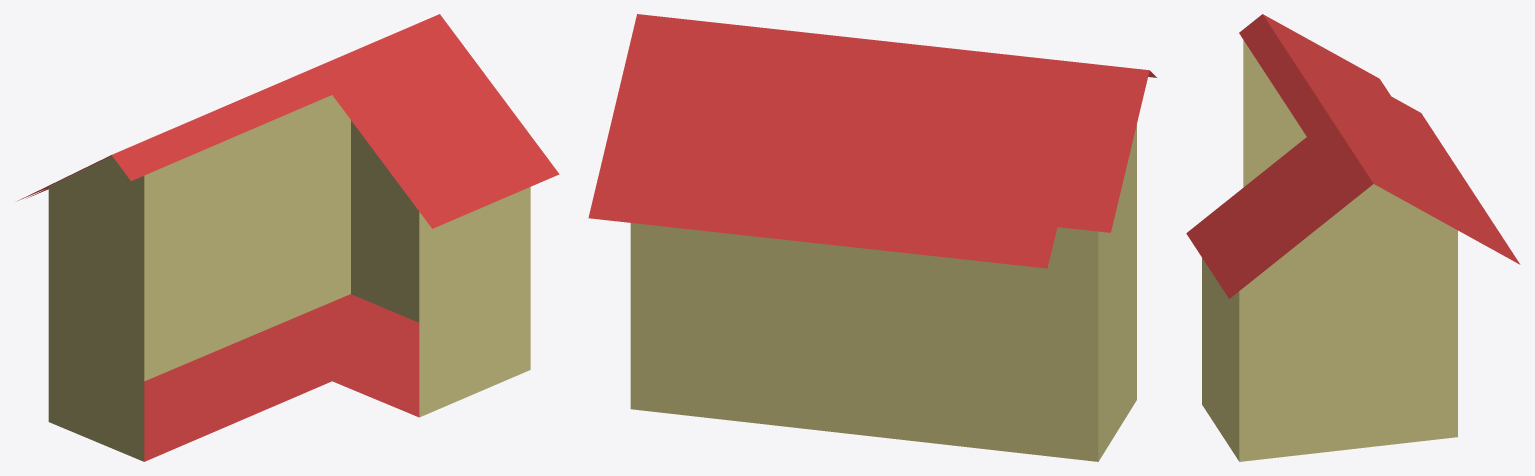
The picture shows the model from 3 angles, left to right: view 1: azimuth 30°, elevation 25°; view 2: azimuth 150°, elevation 25°; view 3: azimuth 270°, elevation 25°; orthographic projection. The views are drawn at different scales.
Bounding box in the file's own units: 14.49 × 10.22 × 9.15.
